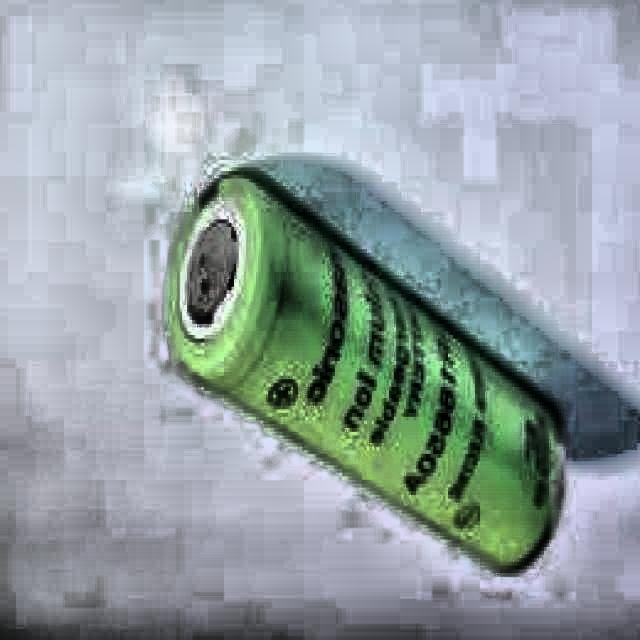battery: (170, 172, 567, 575)
